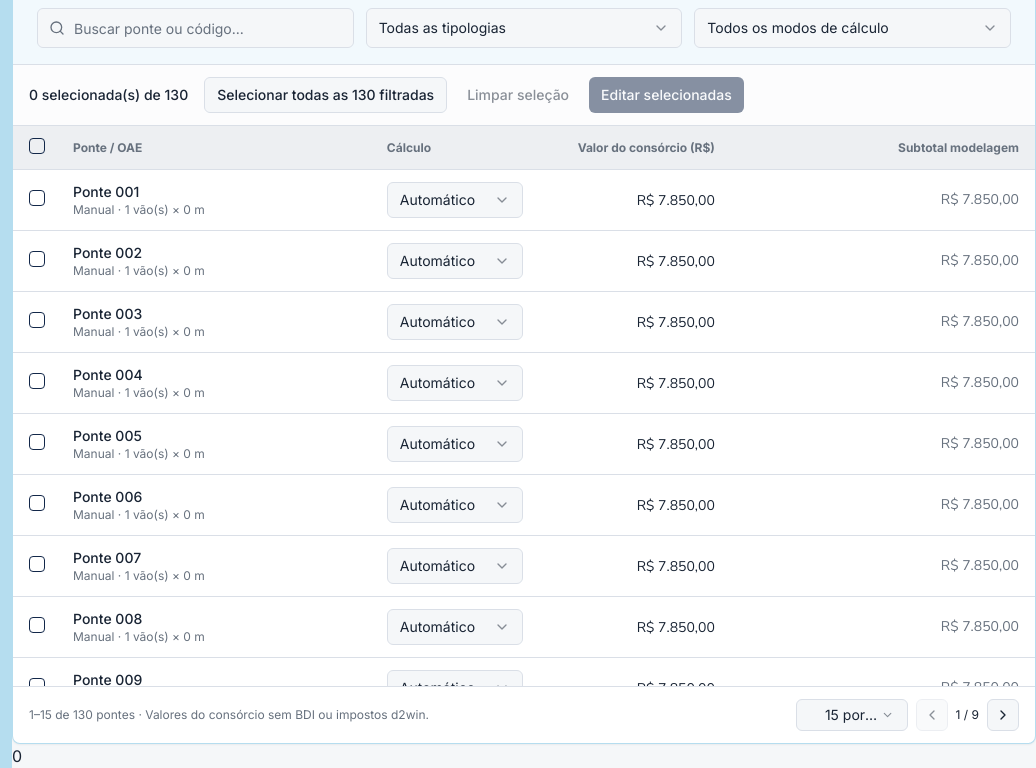
Scenario: edição de preços para 130 pontes › pagina a lista sem mostrar todas as pontes simultaneamente
(page scrolled)
Check: the text "Ponte 016" is not shown
Click the button named "Próxima página de preços": {"x": 1003, "y": 715} [987,699,1019,731]
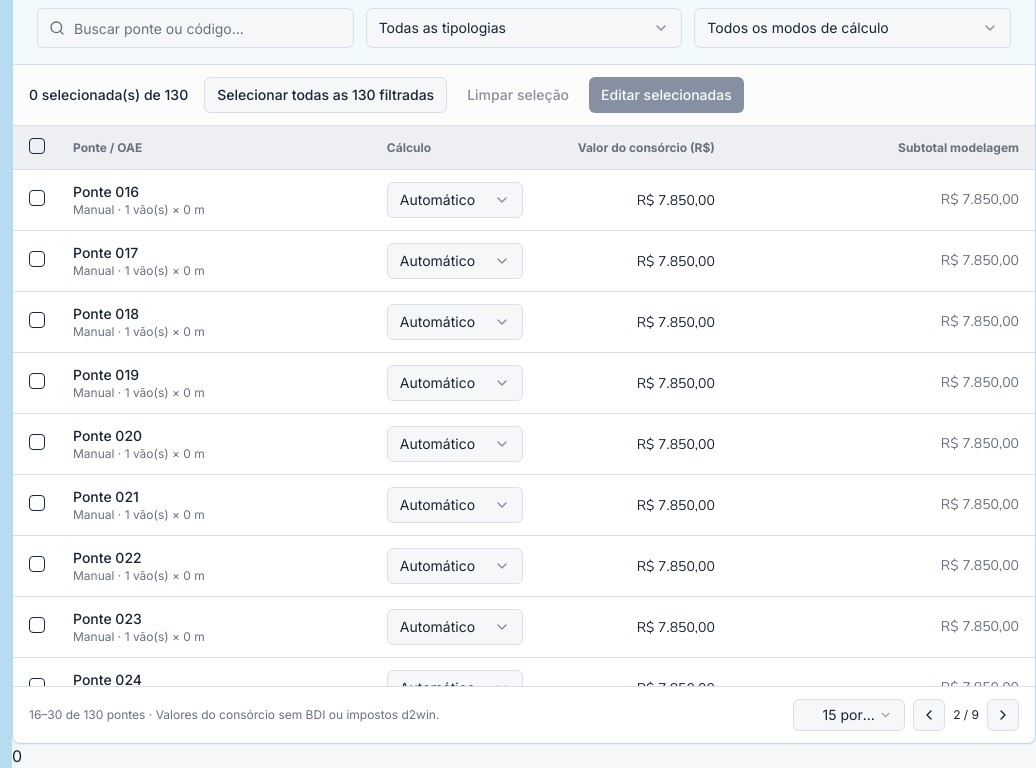
Check: the text "Ponte 016" is shown, box [73,183,139,200]
Check: the text "Ponte 001" is gone
